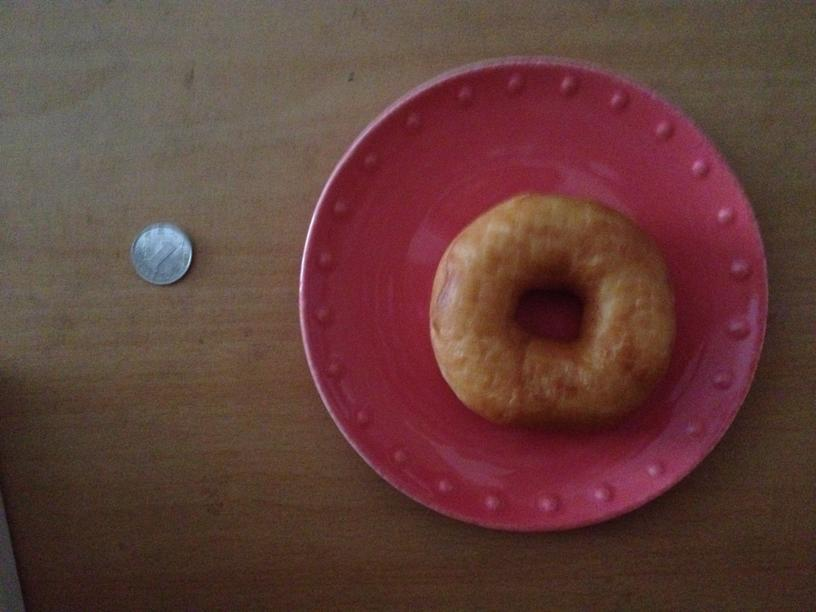coin: (130, 222, 193, 284)
doughnut: (426, 197, 668, 425)
